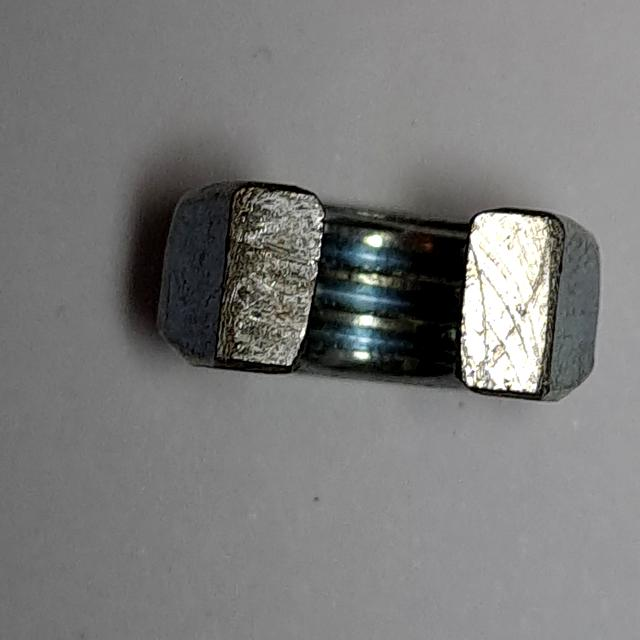Side-Fracture: (143, 169, 618, 419)
